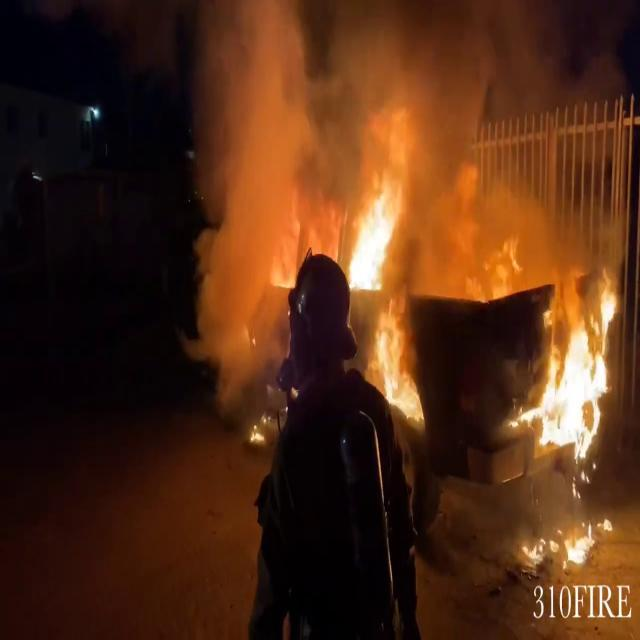Fire: (512, 276, 618, 466), (341, 178, 403, 300), (362, 300, 422, 420)
Smoke: (172, 0, 638, 295)
